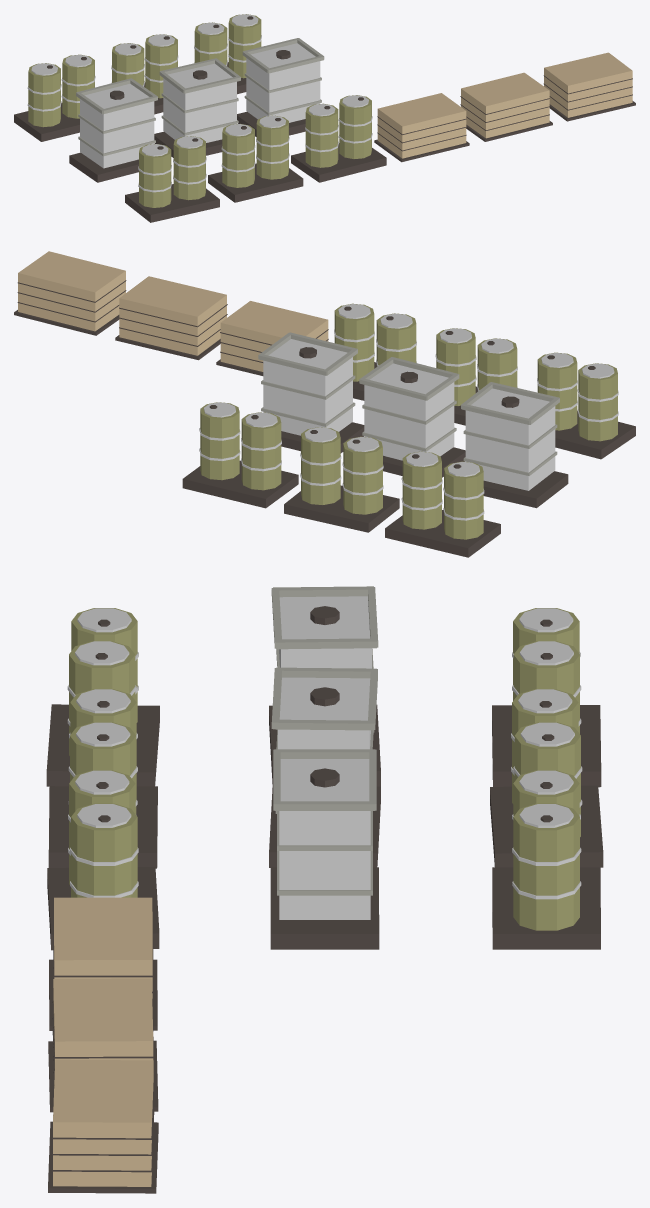
Rendered from SM_AcopioCombustible_v1_Mitad_LOD0.fbx.
3 views of the same model, one above another, from view 1: azimuth 30°, elevation 25°; view 2: azimuth 150°, elevation 25°; view 3: azimuth 270°, elevation 25° (orthographic). The views are drawn at different scales.
Parts seen in each view (by area): view 1: SM_acopio_carga_v6_LOD0; view 2: SM_acopio_carga_v6_LOD0; view 3: SM_acopio_carga_v6_LOD0.
Part boxes in pixels (x1=…): SM_acopio_carga_v6_LOD0: x1=14, y1=14, x2=635, y2=222; SM_acopio_carga_v6_LOD0: x1=14, y1=251, x2=635, y2=557; SM_acopio_carga_v6_LOD0: x1=46, y1=586, x2=603, y2=1193.
Bounding box in the file's own units: 9.1 × 1.27 × 4.52.
